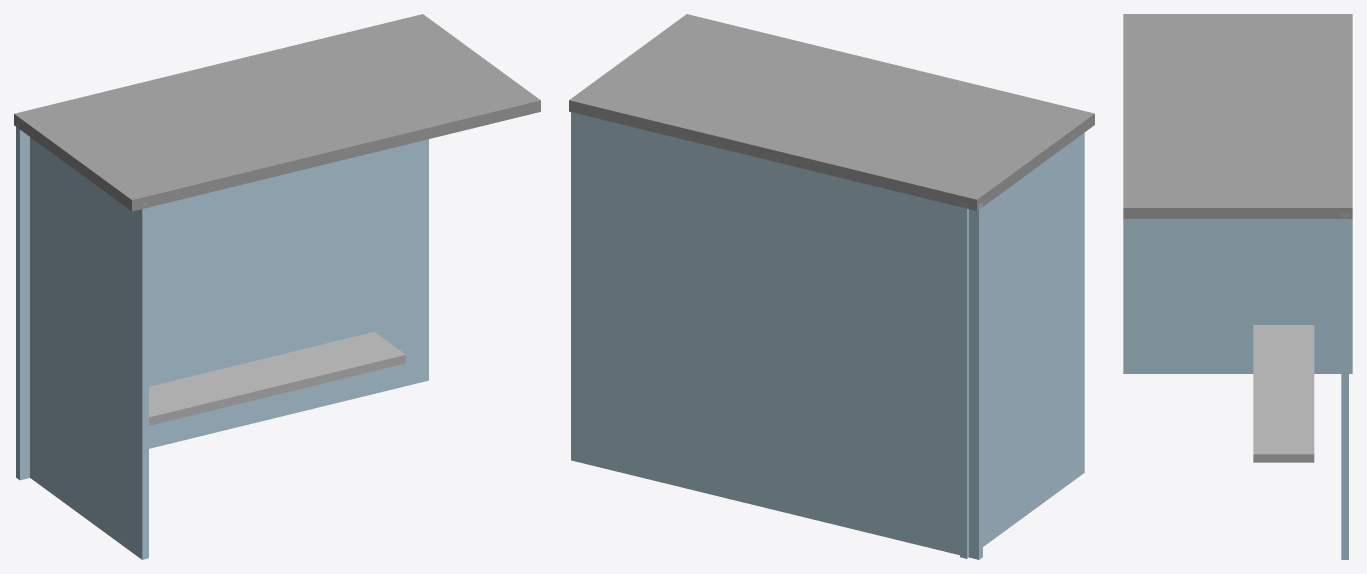
The model's file is env-mod-busstop.glb.
The picture shows the model from 3 angles, left to right: view 1: azimuth 30°, elevation 25°; view 2: azimuth 150°, elevation 25°; view 3: azimuth 270°, elevation 25°; orthographic projection. The views are drawn at different scales.
Size of the model in its own units: 3 by 2.54 by 1.5.
